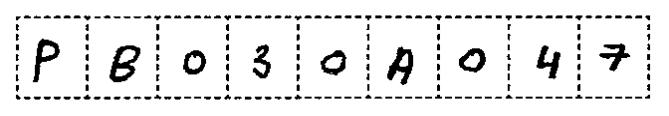0: (314, 43, 352, 81), (454, 43, 490, 80), (179, 43, 209, 81)
3: (248, 40, 278, 82)
4: (527, 41, 569, 85)
7: (592, 36, 636, 75)
A: (379, 42, 425, 91)
B: (107, 37, 147, 89)
P: (28, 32, 67, 87)
